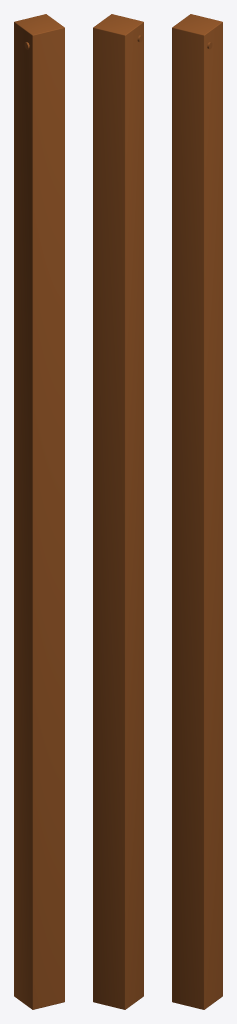
The model's file is wandstuetze.FBX.
3 views of the same model, side by side, from view 1: azimuth 30°, elevation 25°; view 2: azimuth 150°, elevation 25°; view 3: azimuth 330°, elevation 25° (orthographic).
Parts seen in each view (by area): view 1: wandstuetze; view 2: wandstuetze; view 3: wandstuetze.
Boxes of the visible parts, x1,y1,x2,y2 form: wandstuetze: (14, 14, 64, 1009); wandstuetze: (93, 14, 143, 1009); wandstuetze: (172, 14, 222, 1009).
Size of the model in its own units: 1.1 by 28.66 by 1.
